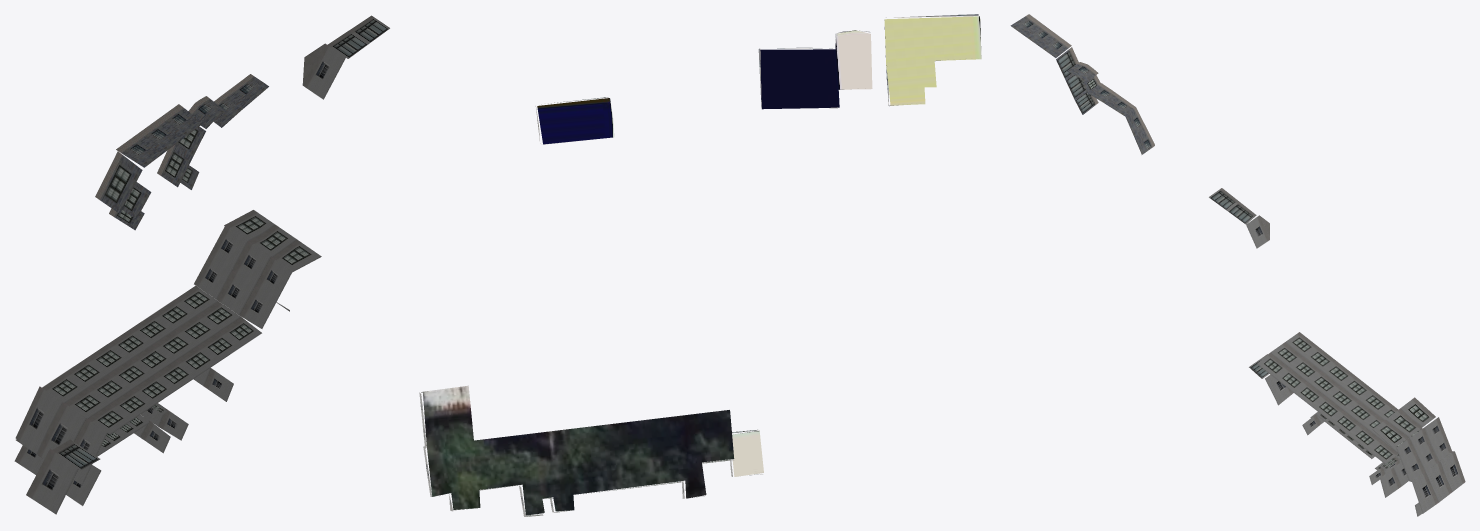
The model's file is tile_LOD4_r7_c6.glb.
3 renders of one model, left to right at view 1: azimuth 30°, elevation 25°; view 2: azimuth 150°, elevation 25°; view 3: azimuth 270°, elevation 25°, orthographic. The views are drawn at different scales.
Size of the model in its own units: 70 by 76.75 by 85.
12 materials, 12 textured.
